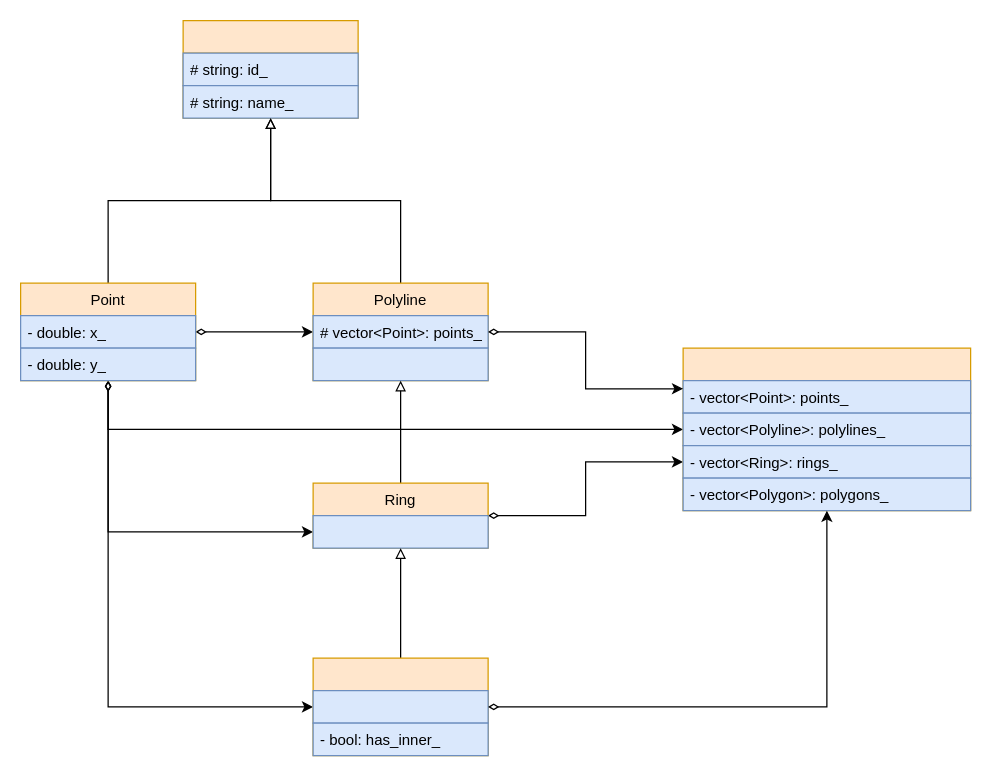
Image size: 991x776. Some labels were removed from this diagram. Here are the shapes that lost their labels. From the top down, the box of each, then its label:
(182, 19, 358, 118): Geometry
(312, 347, 488, 381): # string: length_
(682, 347, 971, 511): Layers
(312, 514, 488, 548): # string: area_
(312, 689, 488, 723): - Ring: inner_ring_
(312, 657, 488, 756): Polygon
